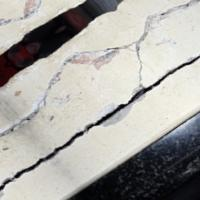crack: (1, 90, 143, 176)
